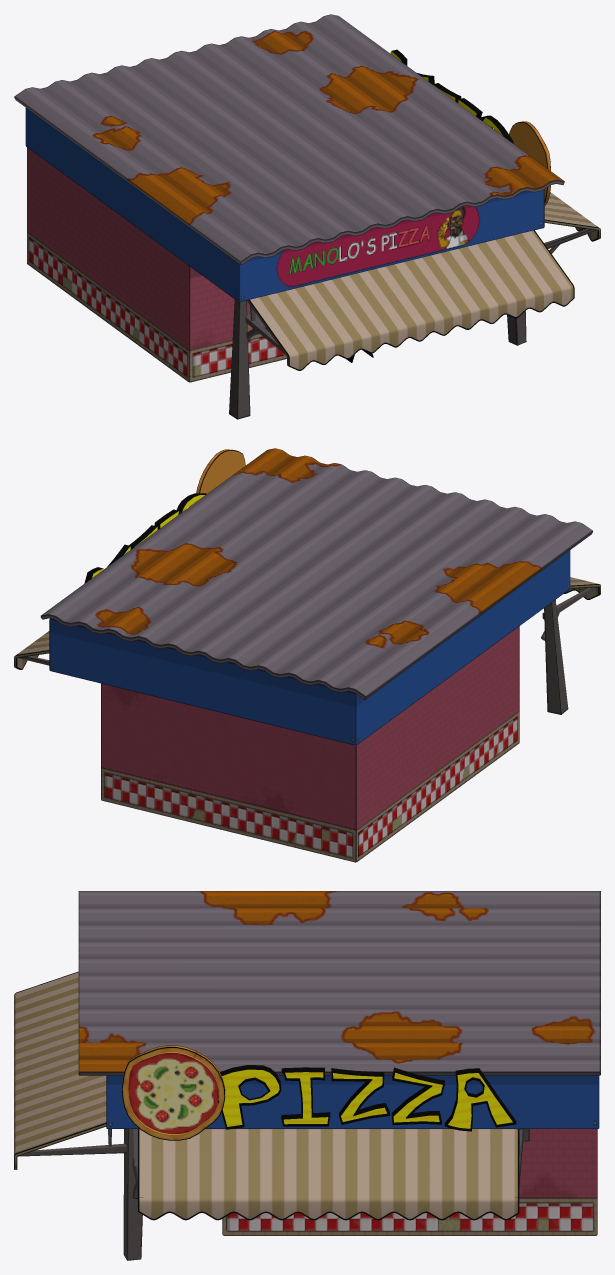
The model's file is Building_Pizzeria.fbx.
The picture shows the model from 3 angles, top to bottom: view 1: azimuth 30°, elevation 25°; view 2: azimuth 150°, elevation 25°; view 3: azimuth 270°, elevation 25°; orthographic projection. The views are drawn at different scales.
Parts seen in each view (by area): view 1: Plane.005, Plane.001, Plane.003, Plane.030, Plane.004, Plane.002, Pizza Letrero; view 2: Plane.005, Plane.001, Plane.030, Plane.004, Pizza Letrero, Plane.002; view 3: Plane.005, Plane.002, Plane.001, Plane.003, Pizza Letrero, Plane.004, Plane.030.
Part boxes in pixels (x1,y1,x2,y2): Plane.005: (14, 14, 564, 264); Plane.001: (25, 108, 544, 382); Plane.003: (247, 230, 574, 370); Plane.030: (229, 226, 597, 419); Plane.004: (509, 121, 550, 205); Plane.002: (544, 192, 600, 241); Pizza Letrero: (390, 49, 513, 143); Plane.005: (40, 448, 592, 699); Plane.001: (49, 550, 570, 862); Plane.030: (17, 587, 594, 714); Plane.004: (196, 449, 245, 493); Pizza Letrero: (84, 493, 206, 583); Plane.002: (14, 631, 49, 669); Plane.005: (78, 891, 600, 1075); Plane.002: (138, 1129, 519, 1220); Plane.001: (106, 1075, 599, 1235); Plane.003: (14, 971, 106, 1169); Pizza Letrero: (215, 1065, 516, 1131); Plane.004: (122, 1045, 225, 1140); Plane.030: (18, 1129, 529, 1260).
Bounding box in the file's own units: 13.6 × 6.63 × 15.49.
